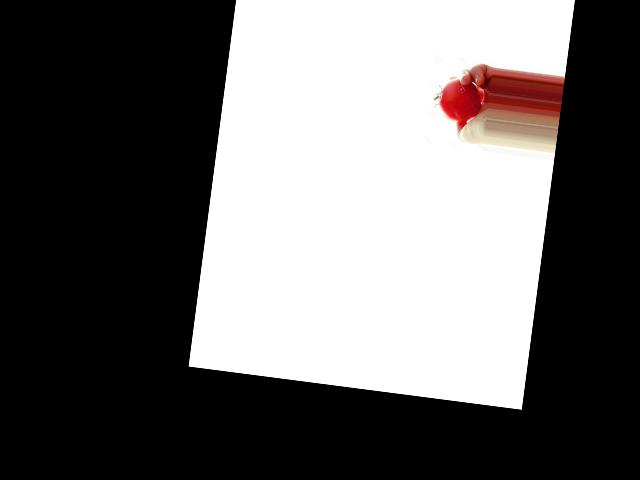tomato: (435, 75, 483, 124)
